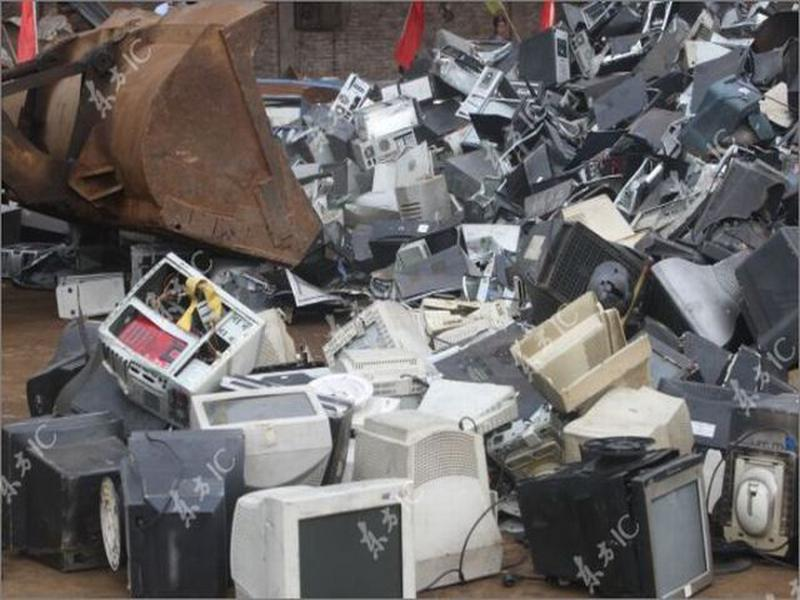tv_pc: (522, 439, 723, 594), (351, 410, 513, 594), (225, 469, 428, 600), (3, 409, 137, 580), (179, 377, 340, 493)
